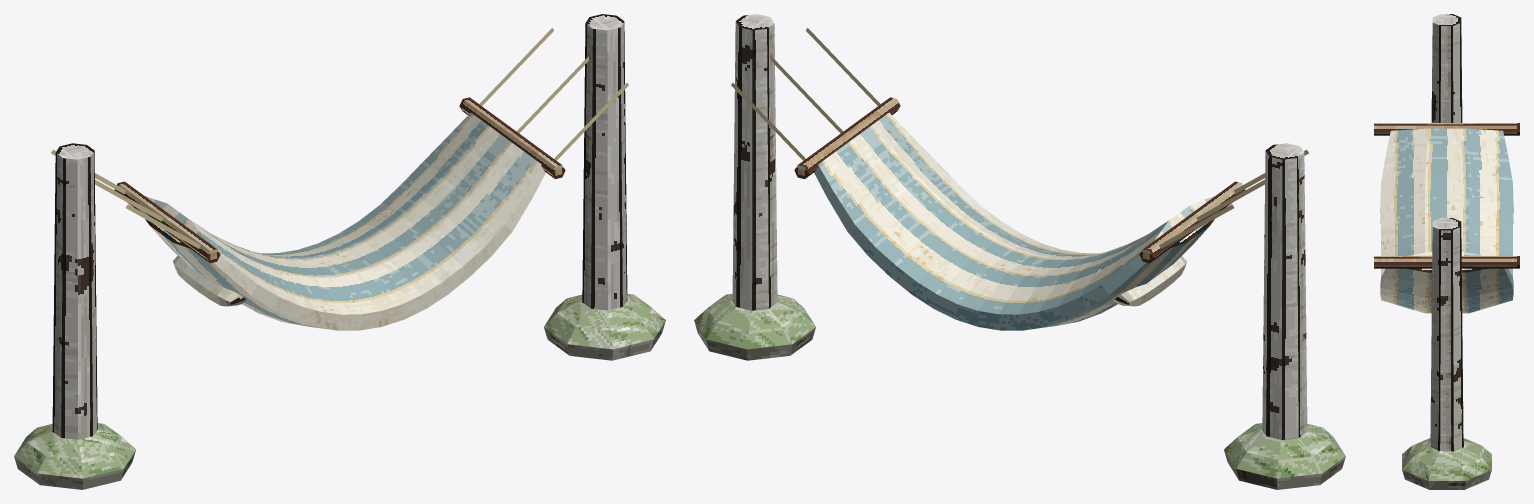
The model's file is hammock.glb.
The picture shows the model from 3 angles, left to right: view 1: azimuth 30°, elevation 25°; view 2: azimuth 150°, elevation 25°; view 3: azimuth 270°, elevation 25°; orthographic projection. The views are drawn at different scales.
Parts seen in each view (by area): view 1: bed, post-1, post1, rock-1, rock1, spread1, spread-1, pillow; view 2: bed, post-1, post1, rock-1, rock1, spread1, spread-1, pillow; view 3: bed, post1, rock1, post-1, spread1, spread-1.
Part boxes in pixels (x1,y1,x2,y2): bed: (145,112,545,330); post-1: (52,143,97,439); post1: (582,14,627,310); rock-1: (14,423,135,489); rock1: (544,294,665,360); spread1: (459,97,565,178); spread-1: (114,181,220,263); pillow: (173,256,262,306); bed: (814,112,1214,330); post-1: (1262,143,1307,439); post1: (732,14,777,310); rock-1: (1224,423,1345,489); rock1: (694,294,815,360); spread1: (794,97,900,178); spread-1: (1139,181,1245,263); pillow: (1096,256,1186,306); bed: (1380,128,1513,313); post1: (1430,218,1463,451); rock1: (1402,438,1491,489); post-1: (1431,14,1462,122); spread1: (1374,256,1519,268); spread-1: (1374,123,1519,135).
Size of the model in its own units: 2.55 by 1.22 by 0.65.
Materials: 2 (2 with a texture image).
